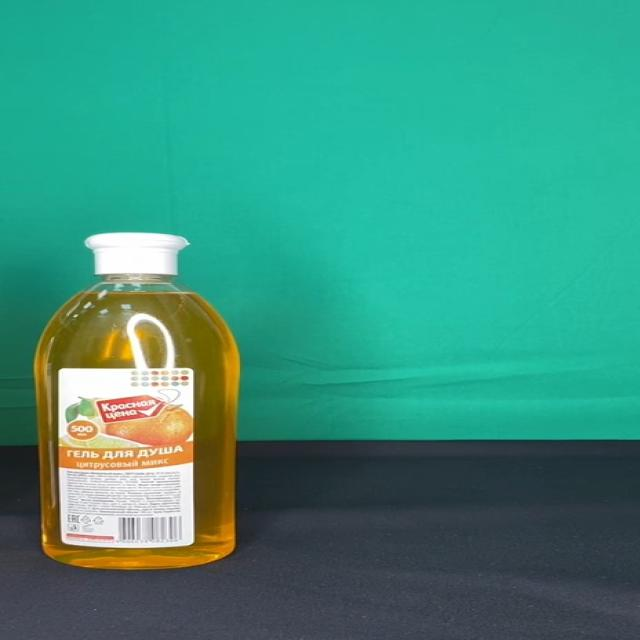Bottle: (34, 231, 240, 570)
Cap: (85, 233, 188, 276)
